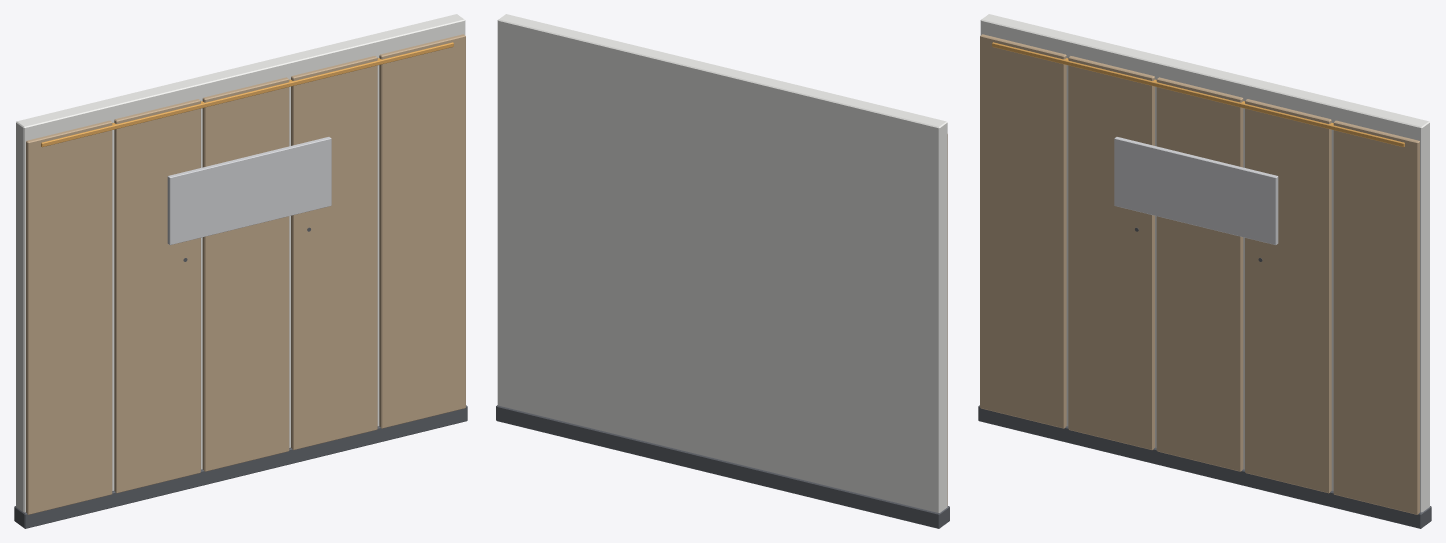
Rendered from office-lobby-and-facilities-reception-back-wall-a5514de2__26136.glb.
3 renders of one model, left to right at view 1: azimuth 30°, elevation 25°; view 2: azimuth 150°, elevation 25°; view 3: azimuth 330°, elevation 25°, orthographic.
Visible parts, largest first — view 1: reception-back-wall; view 2: reception-back-wall; view 3: reception-back-wall.
Boxes of the visible parts, x1,y1,x2,y2 form: reception-back-wall: (14,14,467,528); reception-back-wall: (496,14,949,528); reception-back-wall: (978,14,1431,528).
Size of the model in its own units: 3.01 by 2.6 by 0.181.
